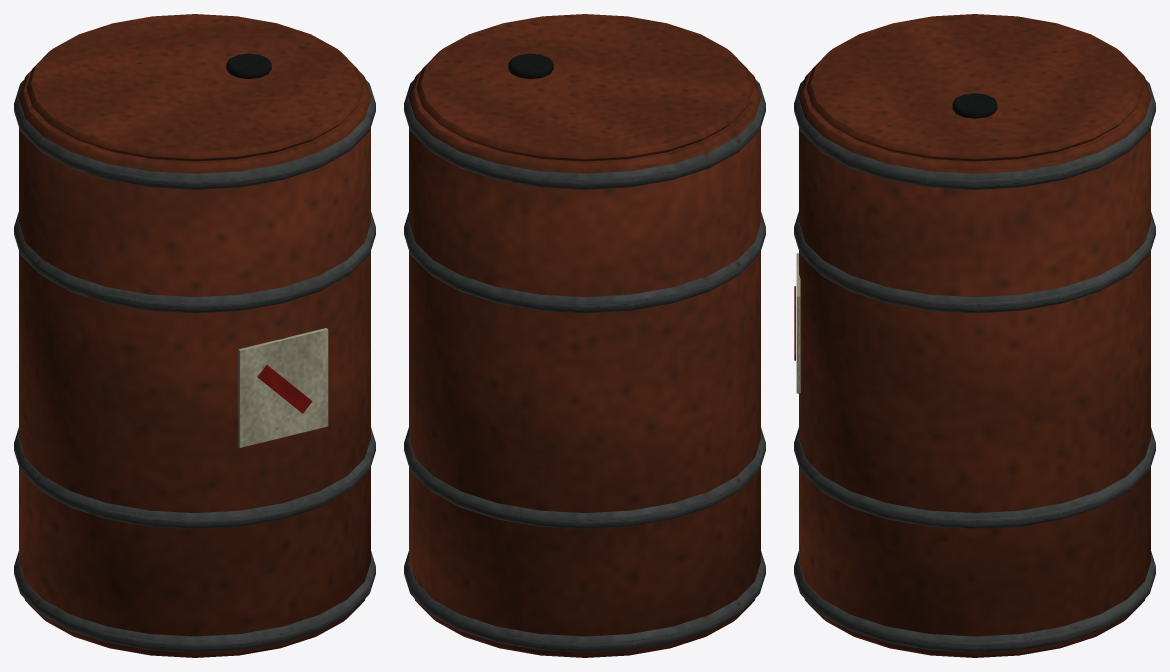
Rendered from barrel.glb.
3 renders of one model, left to right at view 1: azimuth 30°, elevation 25°; view 2: azimuth 150°, elevation 25°; view 3: azimuth 270°, elevation 25°, orthographic.
Visible parts, largest first — view 1: body_oxide, body_steel, body_ivory, body_red, body_darksteel; view 2: body_oxide, body_steel, body_darksteel; view 3: body_oxide, body_steel, body_darksteel, body_ivory.
Part boxes in pixels (box(x1,y1,x2,y2)): body_oxide: box(19, 14, 370, 657); body_steel: box(14, 80, 375, 652); body_ivory: box(238, 328, 328, 447); body_red: box(257, 365, 312, 413); body_darksteel: box(226, 53, 271, 78); body_oxide: box(409, 14, 760, 657); body_steel: box(404, 80, 765, 652); body_darksteel: box(508, 53, 553, 78); body_oxide: box(799, 14, 1150, 657); body_steel: box(794, 80, 1155, 652); body_darksteel: box(952, 93, 997, 118); body_ivory: box(796, 253, 800, 393).
Size of the model in its own units: 0.638 by 0.992 by 0.638.
5 materials, 5 textured.
